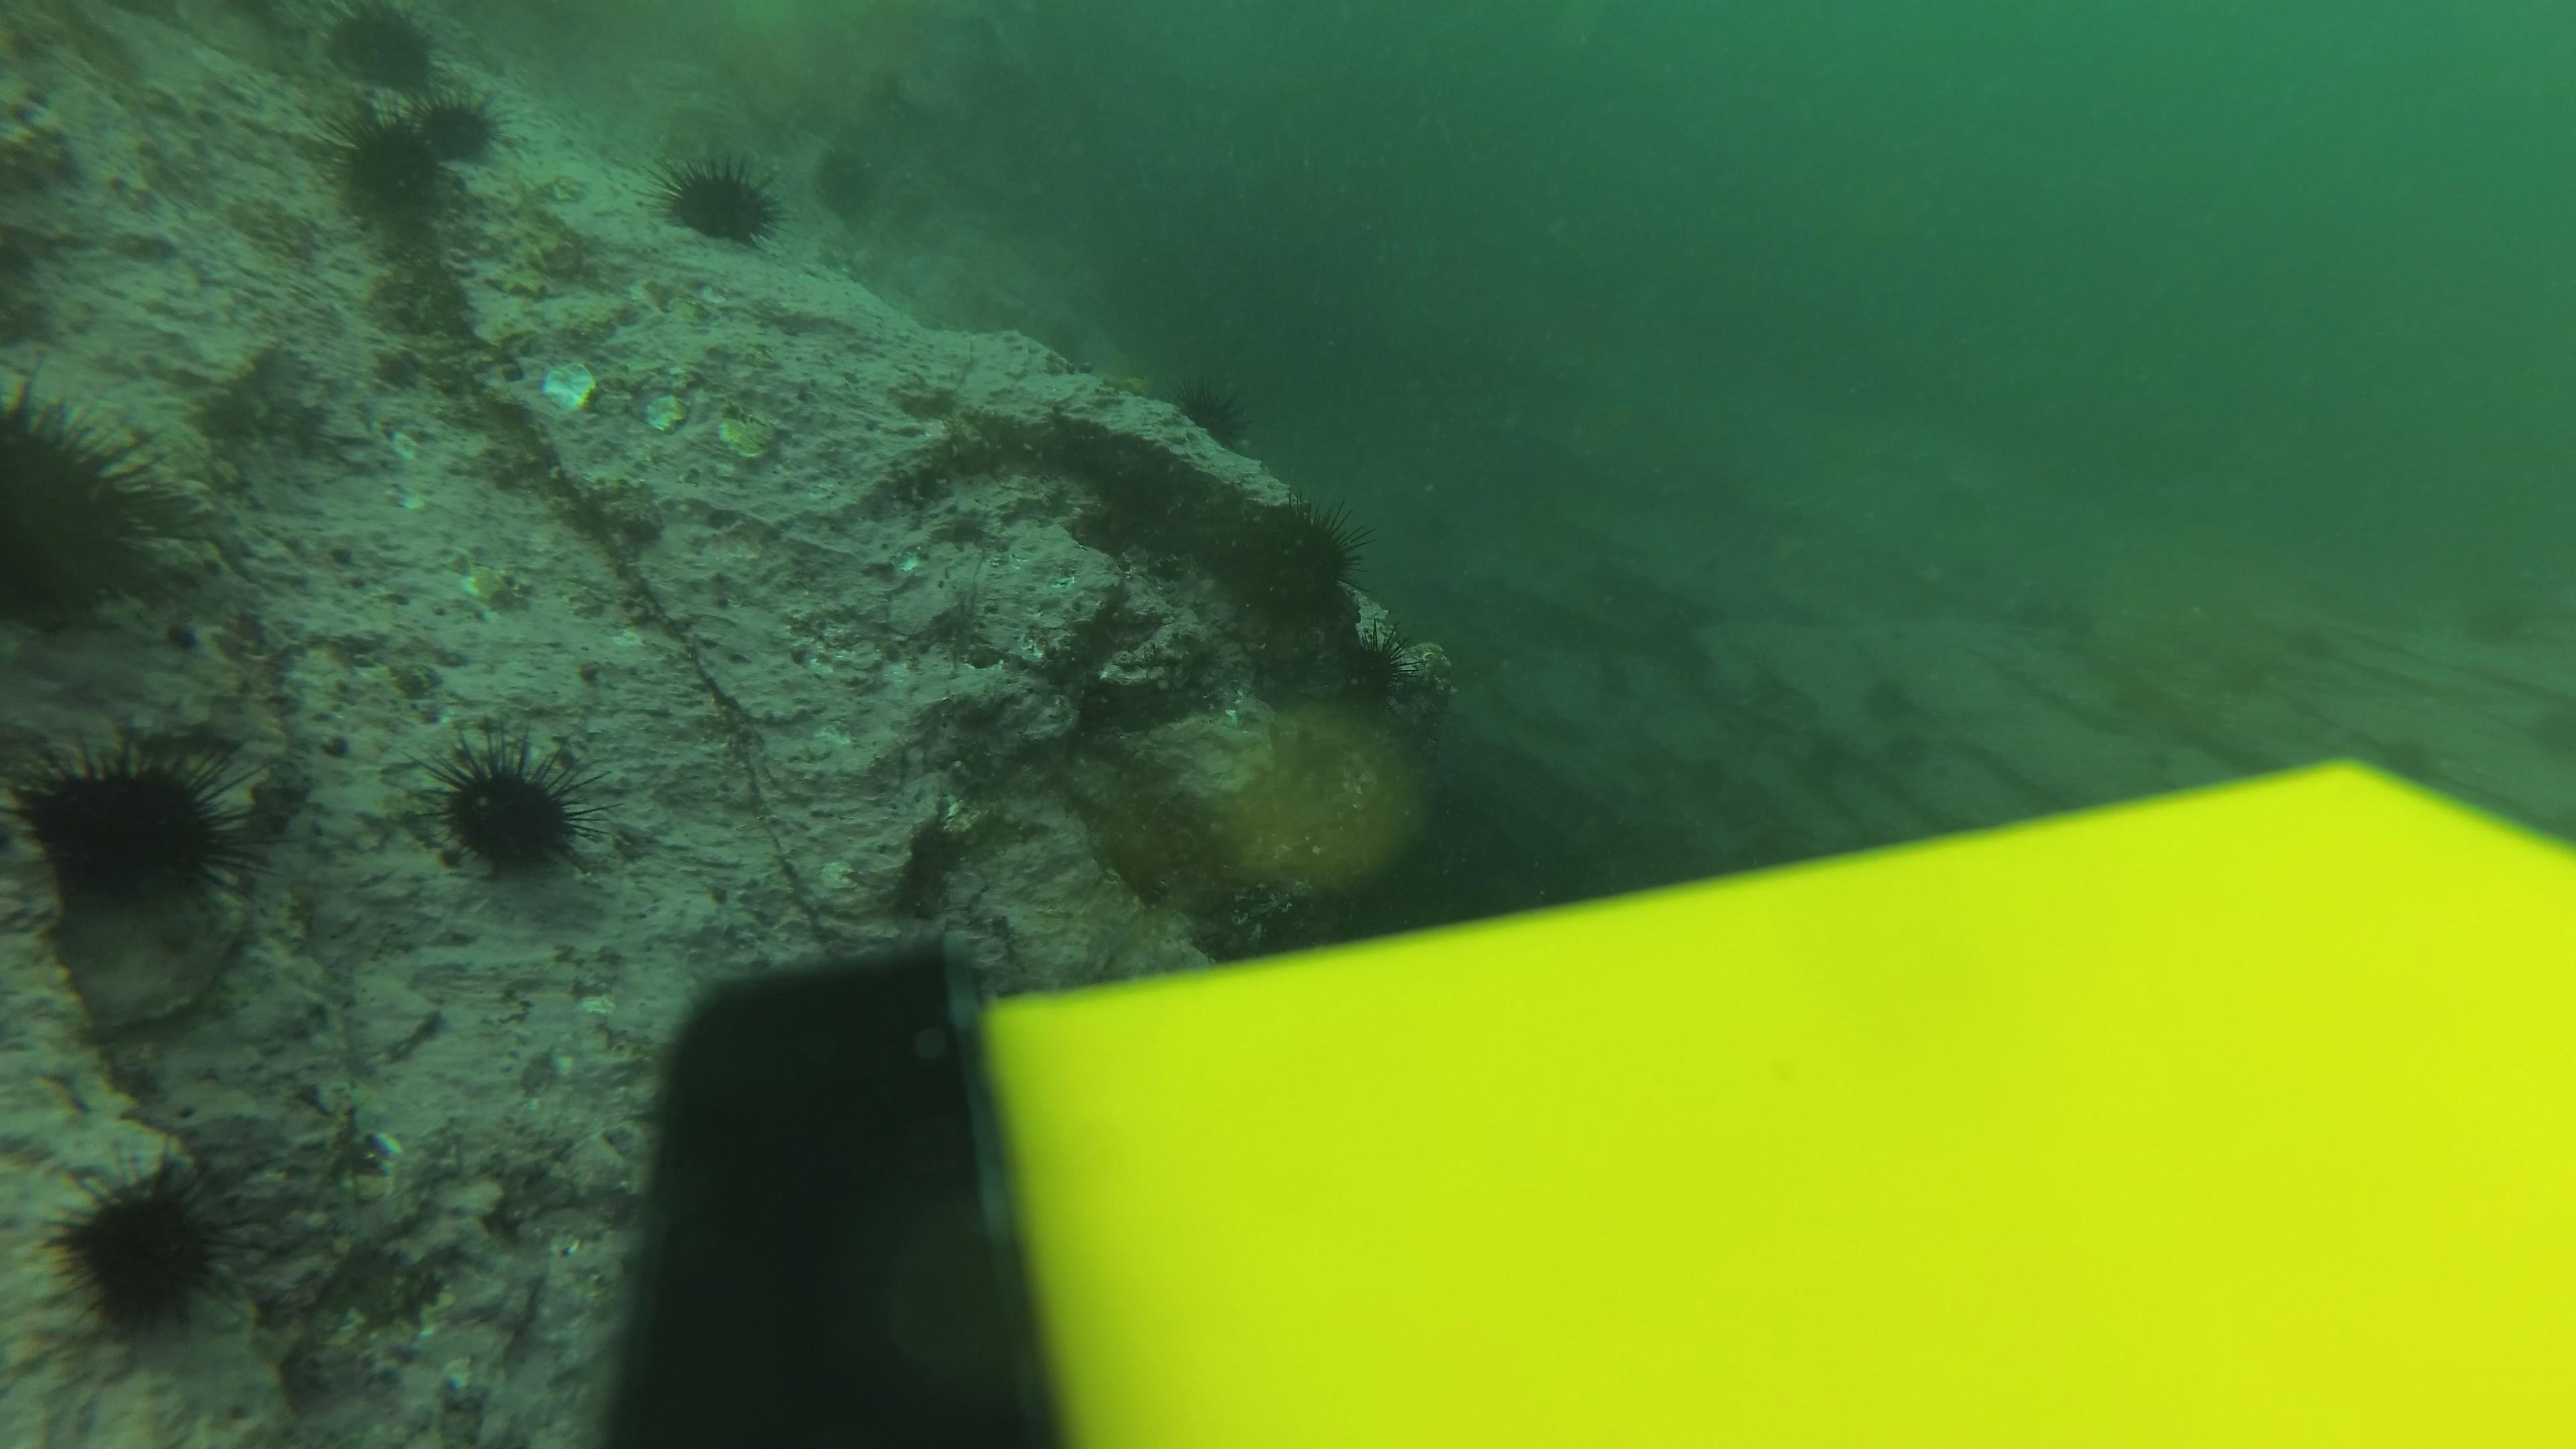echinus: (0, 370, 200, 637), (9, 725, 258, 924), (39, 1154, 248, 1343), (421, 729, 598, 886), (1221, 495, 1368, 635), (340, 111, 458, 234), (655, 150, 784, 251), (318, 2, 448, 96), (402, 88, 506, 173), (1168, 373, 1256, 453), (810, 138, 886, 225), (1859, 663, 1918, 722), (1808, 727, 1867, 786), (2475, 591, 2534, 649), (1884, 724, 1944, 780), (2284, 614, 2344, 671), (2385, 734, 2443, 791), (2518, 702, 2576, 759), (2051, 600, 2093, 640), (1626, 564, 1668, 605), (2010, 594, 2051, 635), (2235, 660, 2275, 701), (1672, 649, 1713, 690), (1592, 655, 1633, 695), (1690, 748, 1730, 789), (1748, 667, 1789, 708), (1953, 556, 1994, 596), (1403, 508, 1444, 548)
starfish: (1083, 359, 1166, 407)
